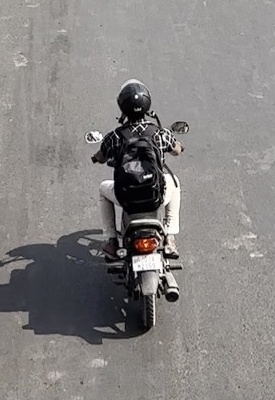BikeWithRider: (80, 76, 195, 333)
Helmet: (112, 76, 158, 122)
